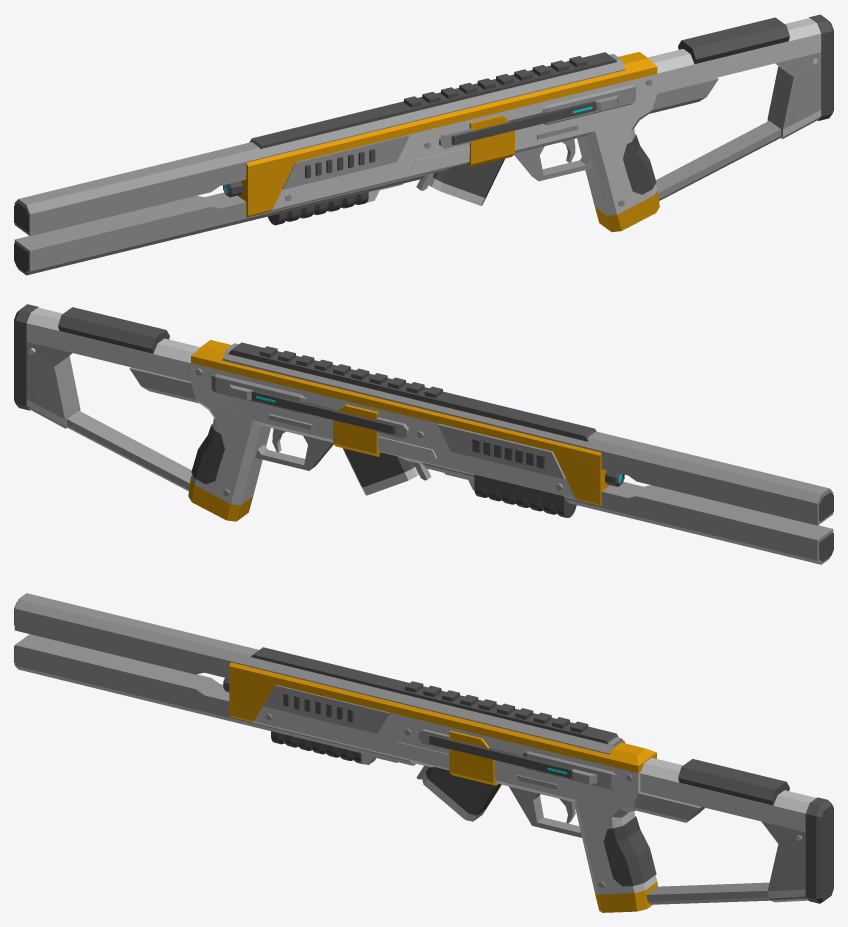
3 views of the same model, one above another, from view 1: azimuth 30°, elevation 25°; view 2: azimuth 150°, elevation 25°; view 3: azimuth 330°, elevation 25° (orthographic).
Visible parts, largest first — view 1: SM_SR02; view 2: SM_SR02; view 3: SM_SR02.
Boxes of the visible parts, bbox=[...] form: SM_SR02: bbox=[14, 14, 833, 275]; SM_SR02: bbox=[14, 304, 833, 564]; SM_SR02: bbox=[14, 593, 833, 912].
Size of the model in its own units: 97.09 by 19.99 by 5.69.
